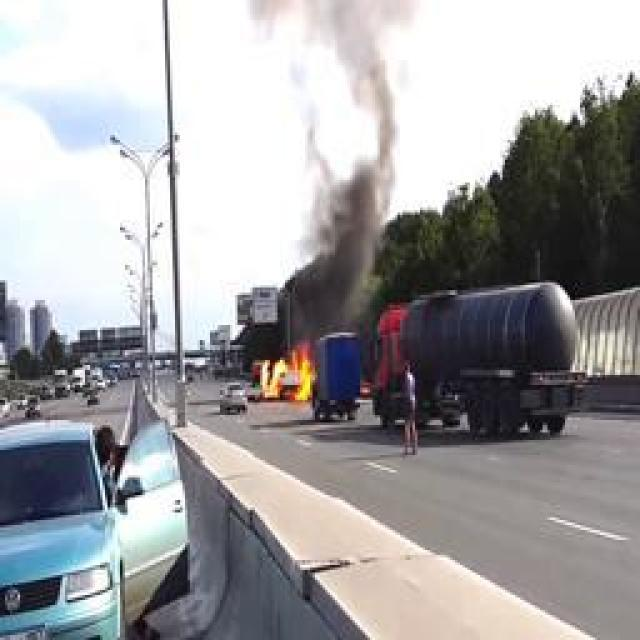Fire: (262, 345, 316, 403)
